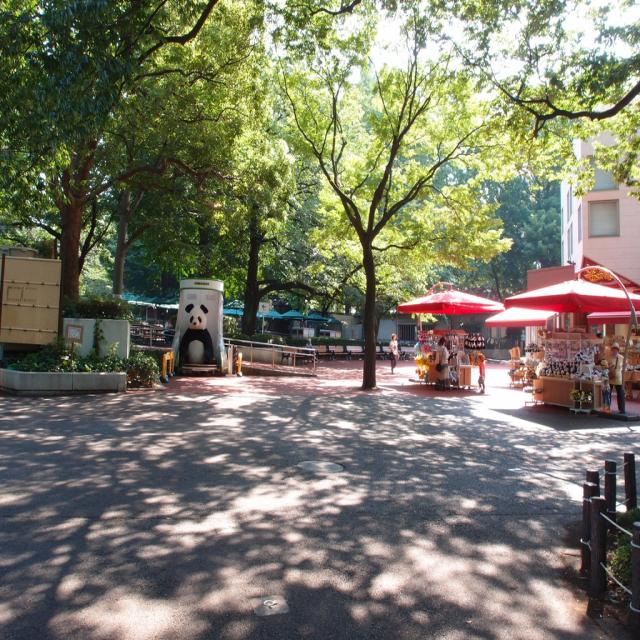panda: (179, 301, 214, 366)
